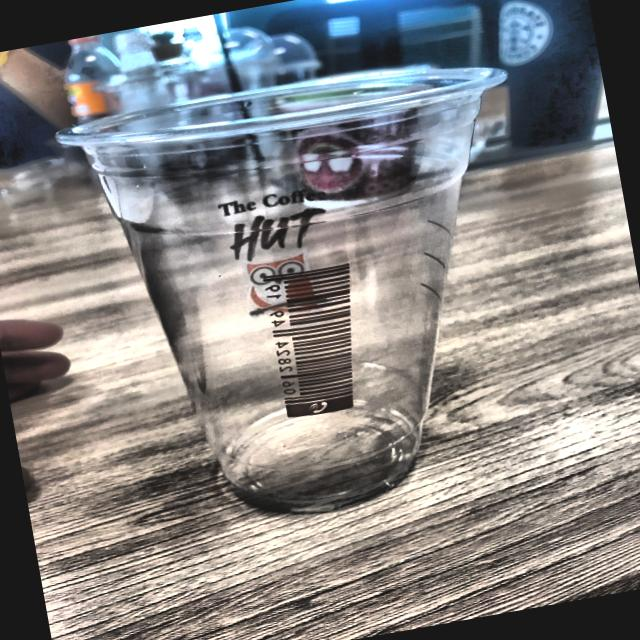plastic cup: (28, 38, 572, 568)
